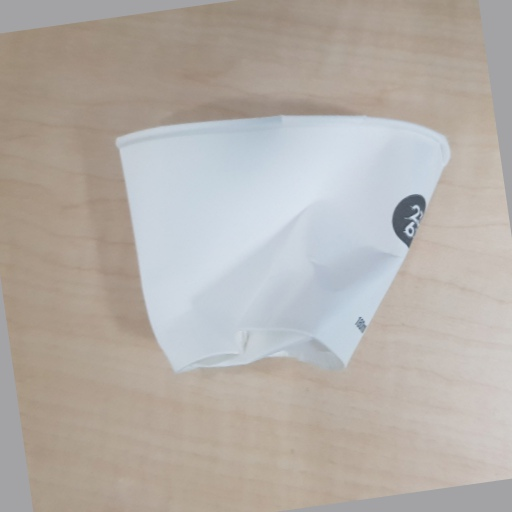Paper_1: (117, 113, 451, 374)
